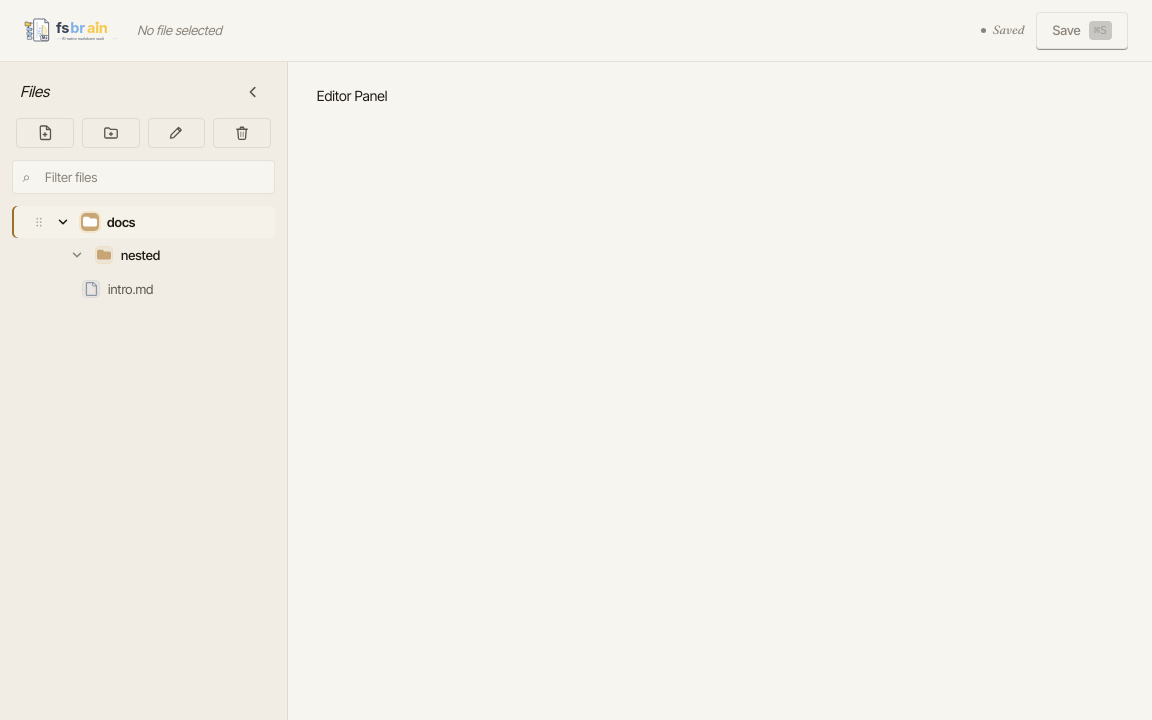
Test: GlobalLayout › expands a collapsed folder and shows children on second click
The image size is (1152, 720).
Click the list item "docs" at [84, 222], box [32, 213, 136, 231]
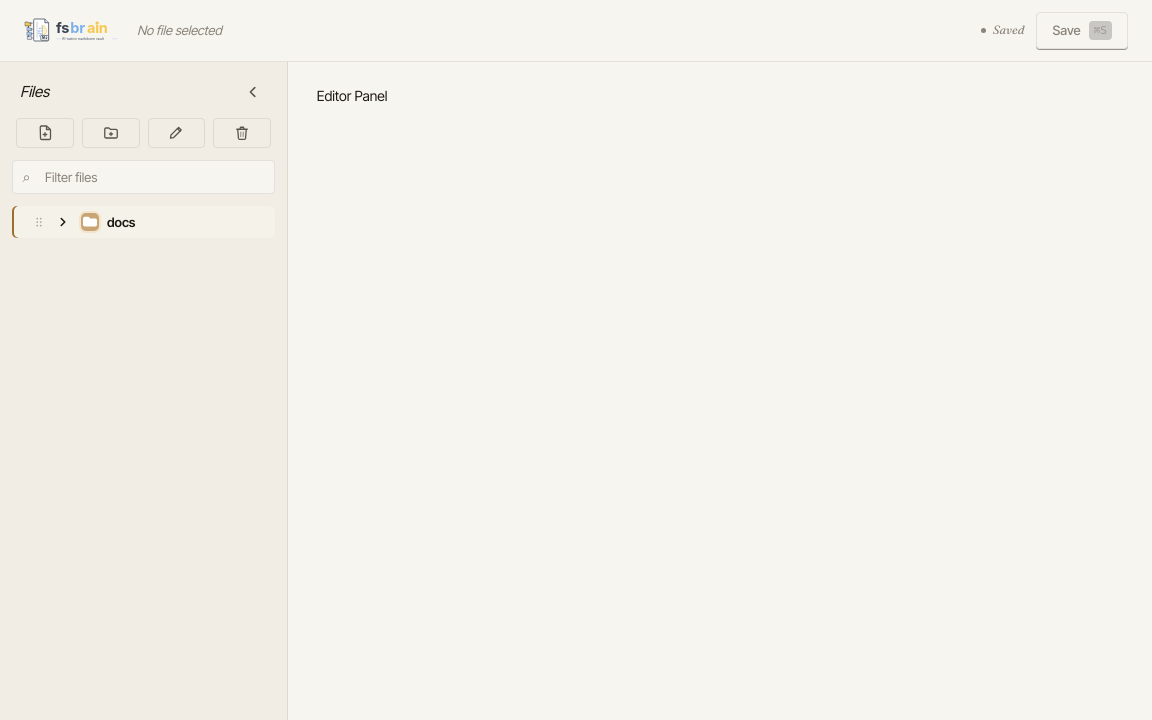
Expected: the text "intro.md" is gone
Click the list item "docs" at [84, 222], box [32, 213, 136, 231]
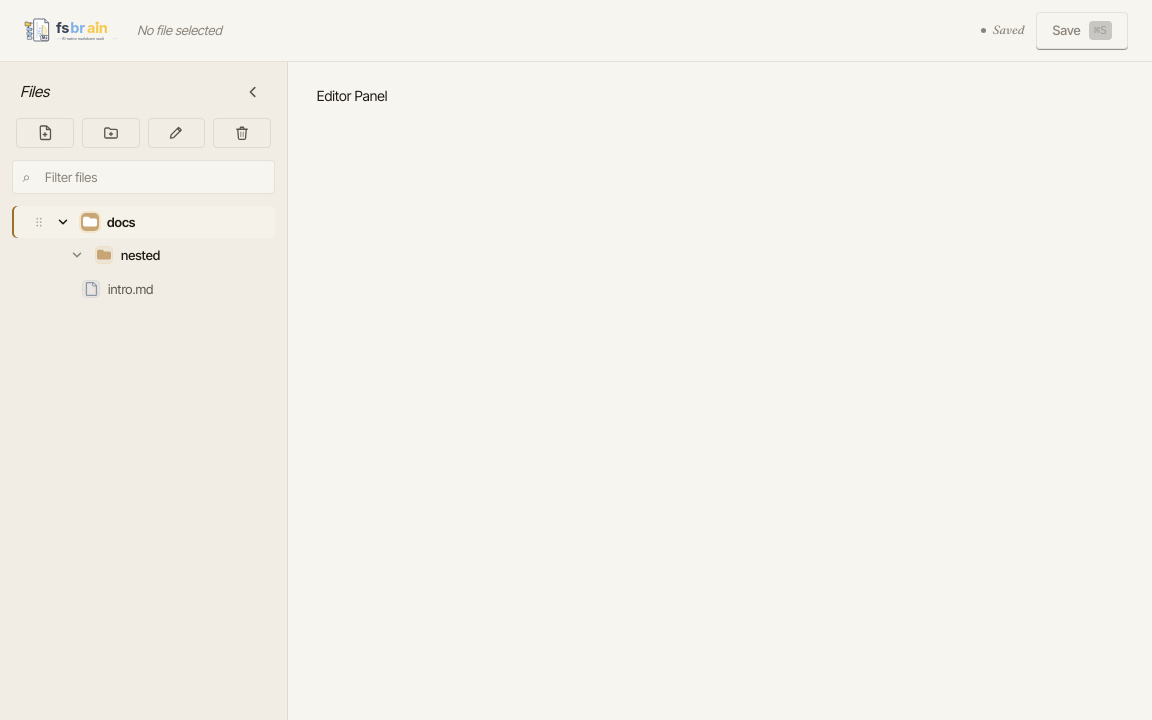
Expected: the list item "intro.md" is shown, [82, 280, 153, 298]
